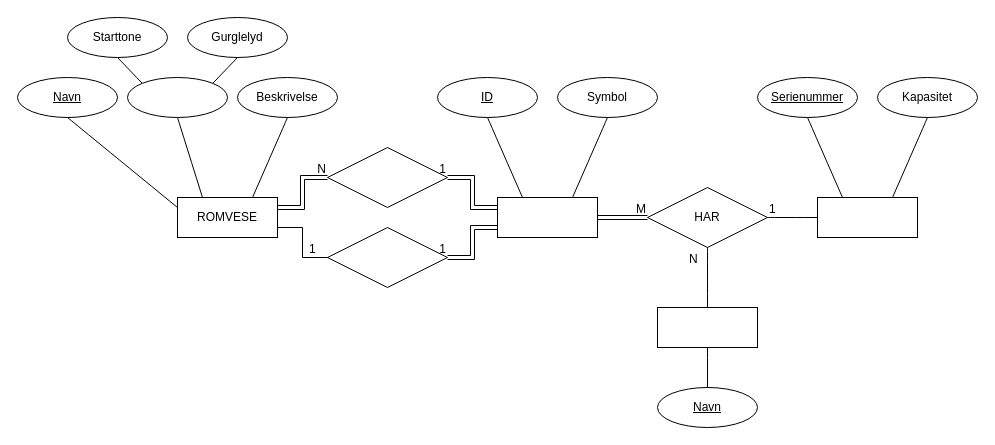
The diagram is 995 pixels wide and 445 high, and some of its shapes have lost their labels. The box of each missing label's shape, as (x1, y1, x2, y2) in pixels:
ER_I: (326, 146, 448, 208)
FUNKSJON: (656, 306, 758, 348)
GRUPPE: (496, 196, 598, 238)
LEDER: (326, 226, 448, 288)
Lyd: (126, 76, 228, 118)
ROMSKIP: (816, 196, 918, 238)
